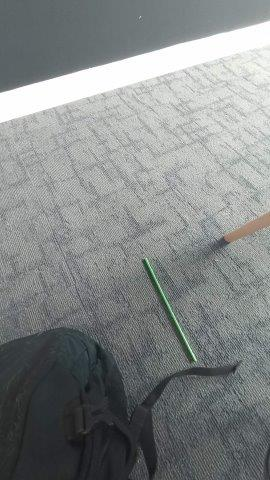sedotan: (145, 257, 197, 362)
